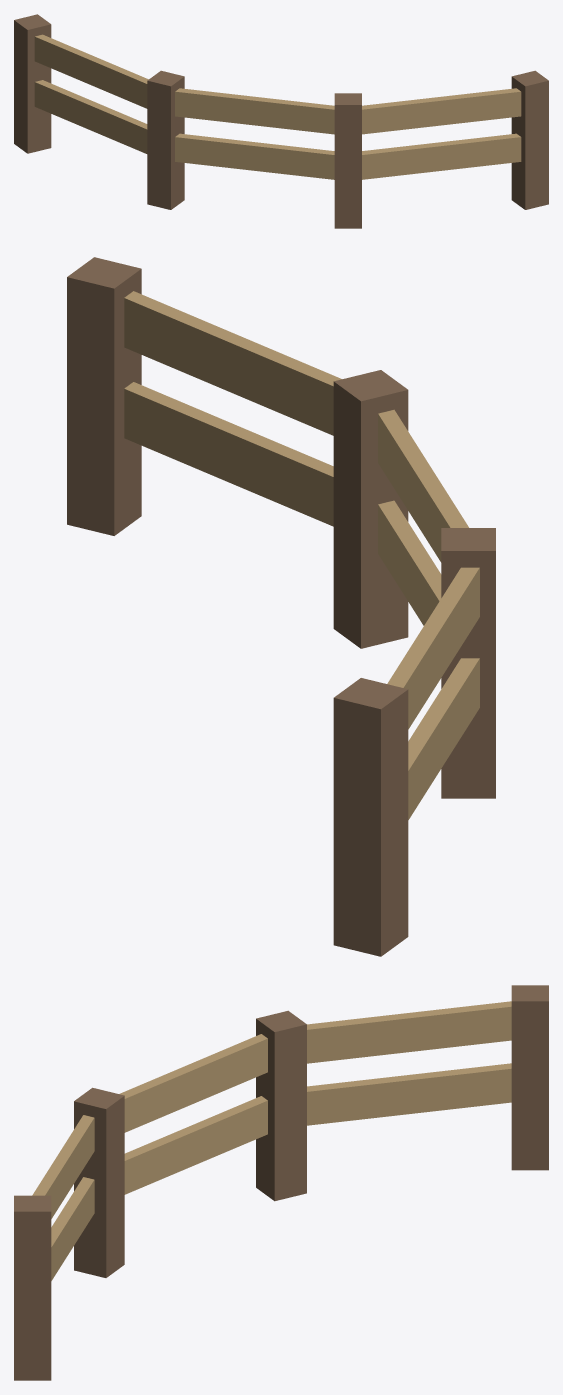
The model's file is Hilly_Prop_Fence_Curve_2x2.obj.
3 renders of one model, top to bottom at view 1: azimuth 30°, elevation 25°; view 2: azimuth 150°, elevation 25°; view 3: azimuth 270°, elevation 25°, orthographic. The views are drawn at different scales.
Visible parts, largest first — view 1: object7, object5, object10, object3, object4, object2, object1, object8, object9, object6; view 2: object1, object2, object8, object10, object3, object4, object6, object7, object9, object5; view 3: object4, object6, object9, object8, object1, object2, object7, object5, object10, object3.
Part boxes in pixels (x1,y1,x2,y2): object7: (175,88,334,134); object5: (175,133,334,179); object10: (362,88,521,134); object3: (362,133,521,179); object4: (147,70,184,209); object2: (511,70,548,209); object1: (14,14,51,153); object8: (334,93,361,228); object9: (34,80,147,153); object6: (34,34,148,108); object1: (333,678,408,956); object2: (67,257,141,535); object8: (333,370,408,648); object10: (124,291,341,435); object3: (124,382,333,526); object4: (441,528,495,798); object6: (387,567,479,729); object7: (378,409,468,562); object9: (408,658,479,819); object5: (378,500,441,625); object4: (256,1010,306,1201); object6: (307,1001,511,1063); object9: (307,1063,511,1125); object8: (74,1087,124,1277); object1: (511,985,548,1170); object2: (14,1195,51,1380); object7: (119,1034,267,1132); object5: (124,1096,267,1194); object10: (32,1115,94,1218); object3: (51,1177,94,1280).
Size of the model in its own units: 2.15 by 0.7498 by 2.15.
